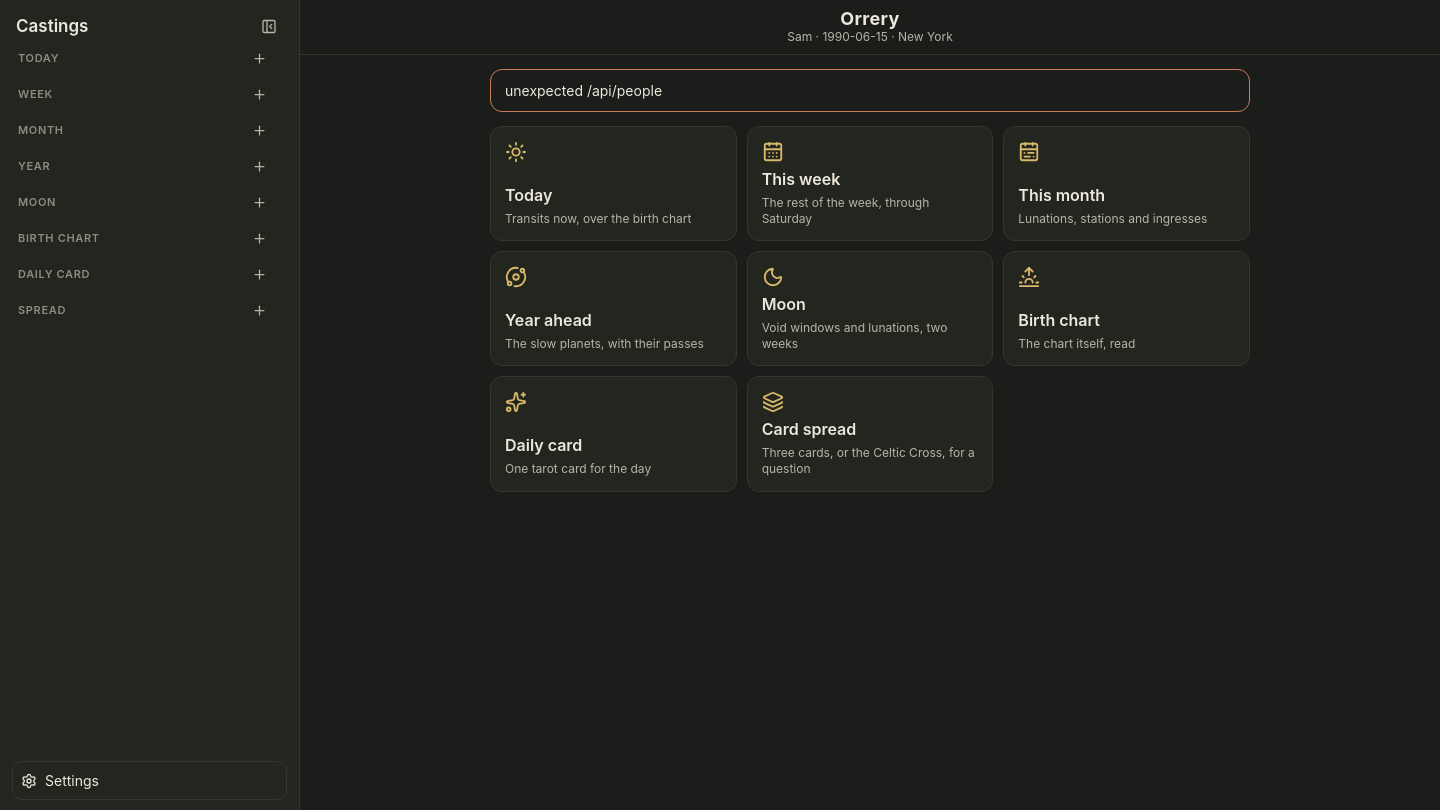
App › puts the tile back untouched when the popup is closed
Click the list item "Transits now, over the birth chart".
click(613, 184)  # box [490,126,737,241]
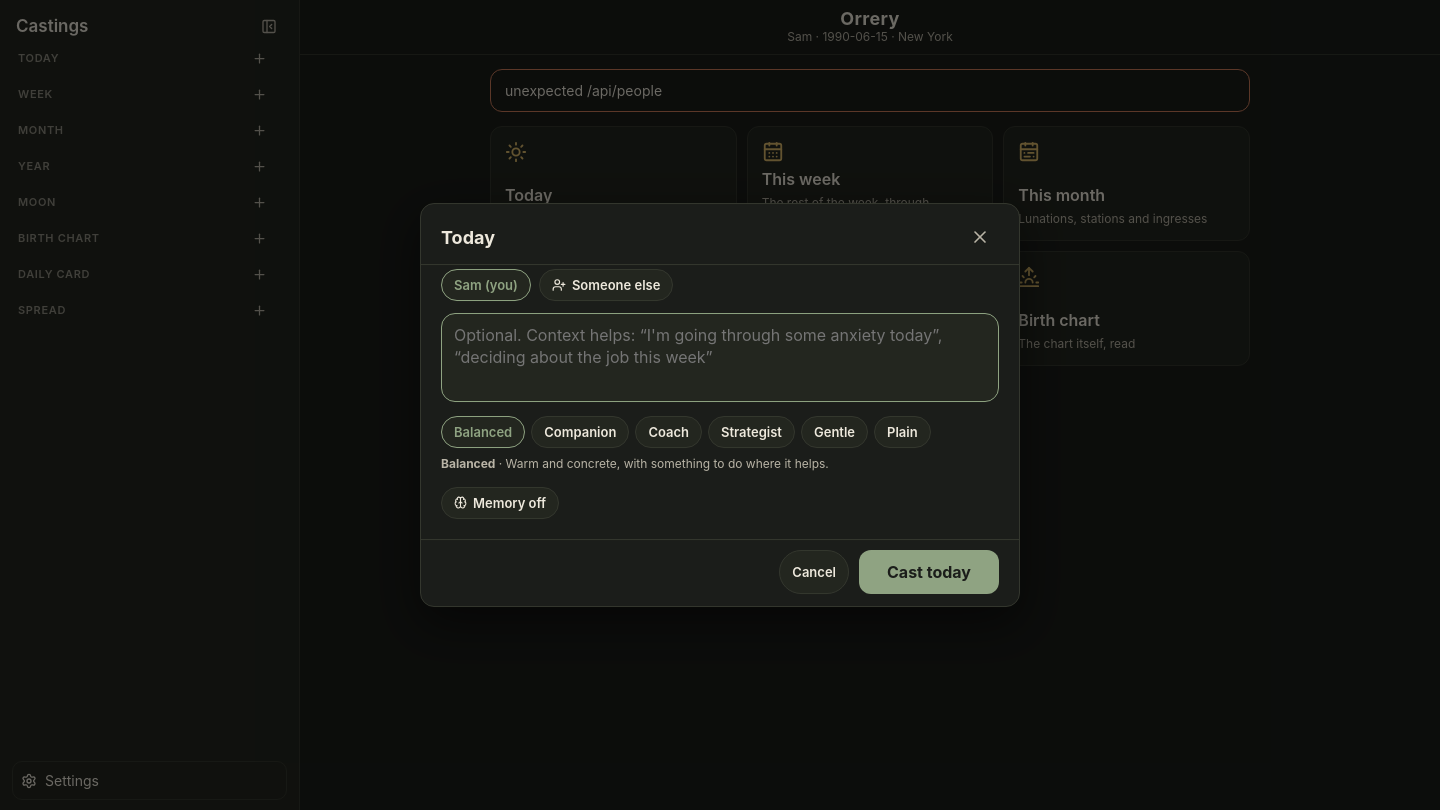
Click the button "Cancel".
click(814, 572)  # box [779,550,849,594]
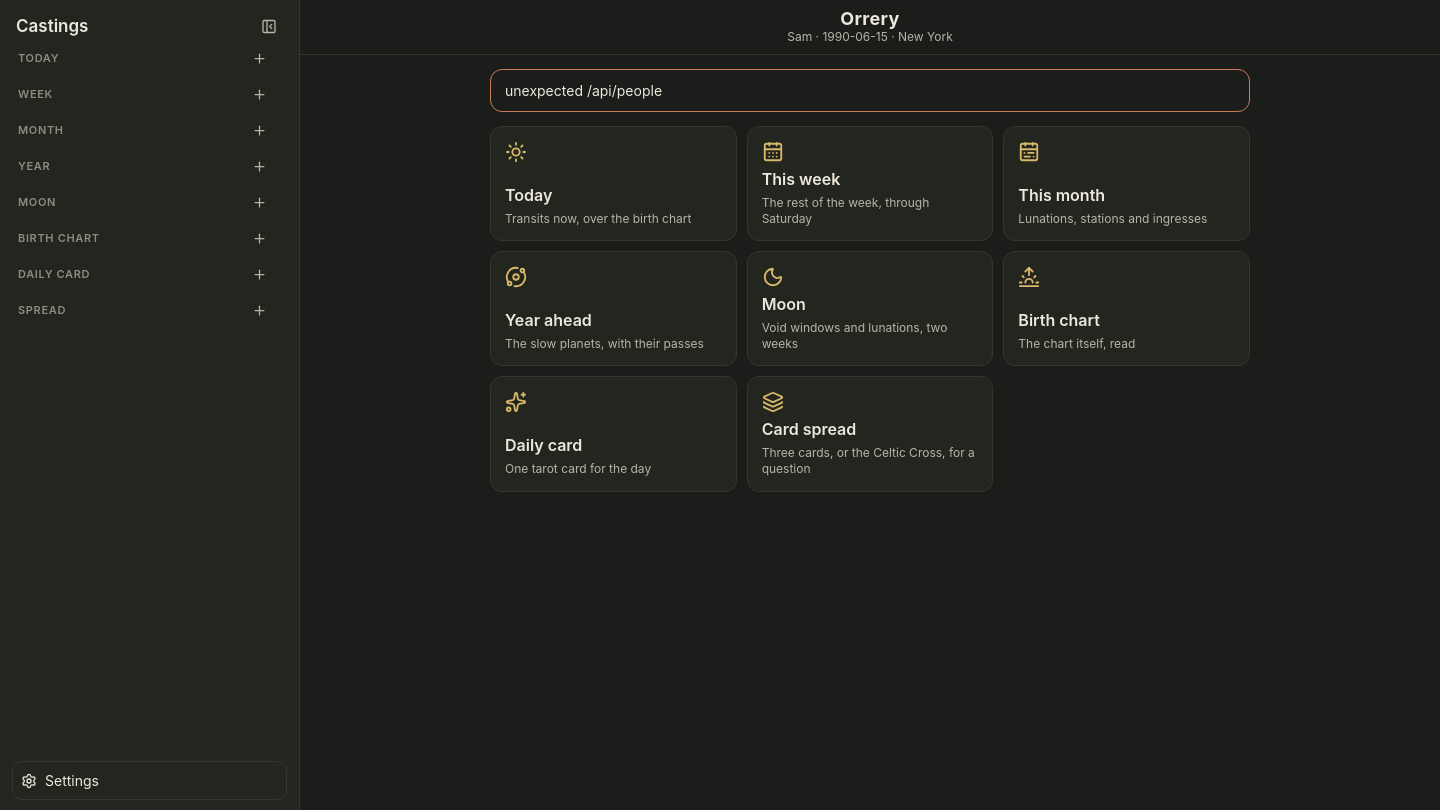
Check: the dialog is gone
